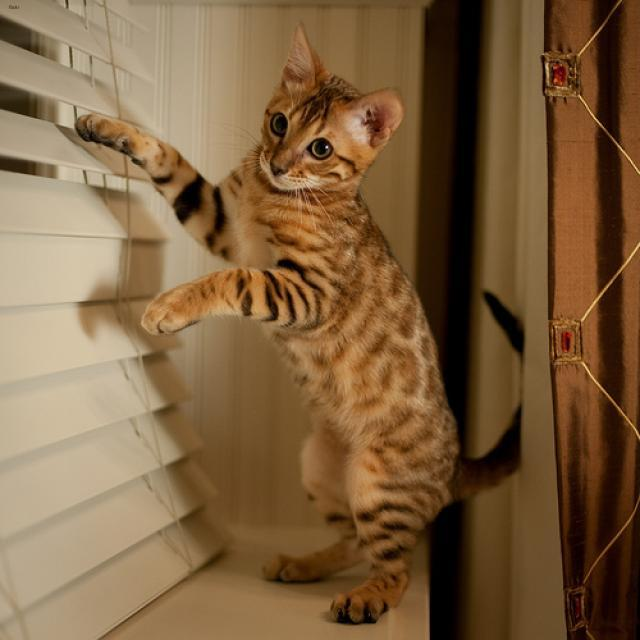Bengal: (254, 18, 415, 220)
